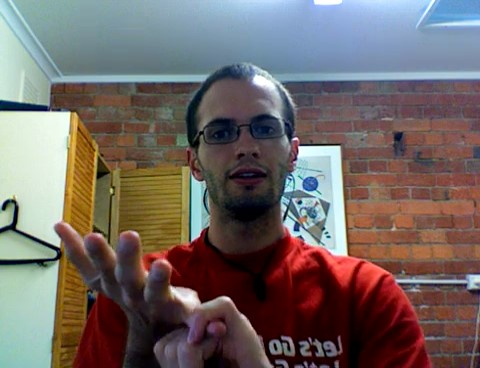S: (49, 218, 267, 368)
